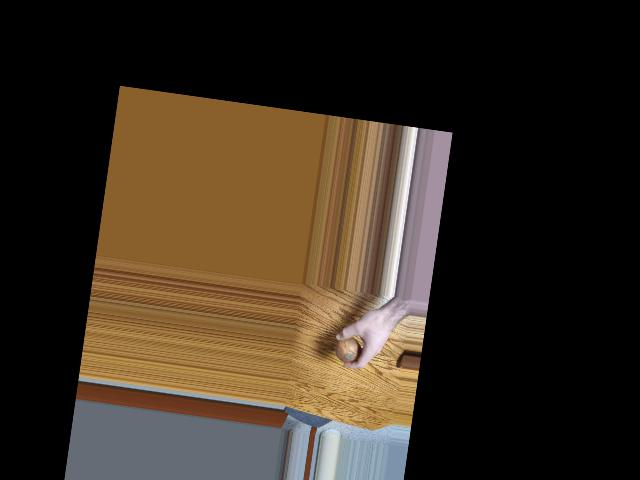onion: (334, 332, 367, 366)
